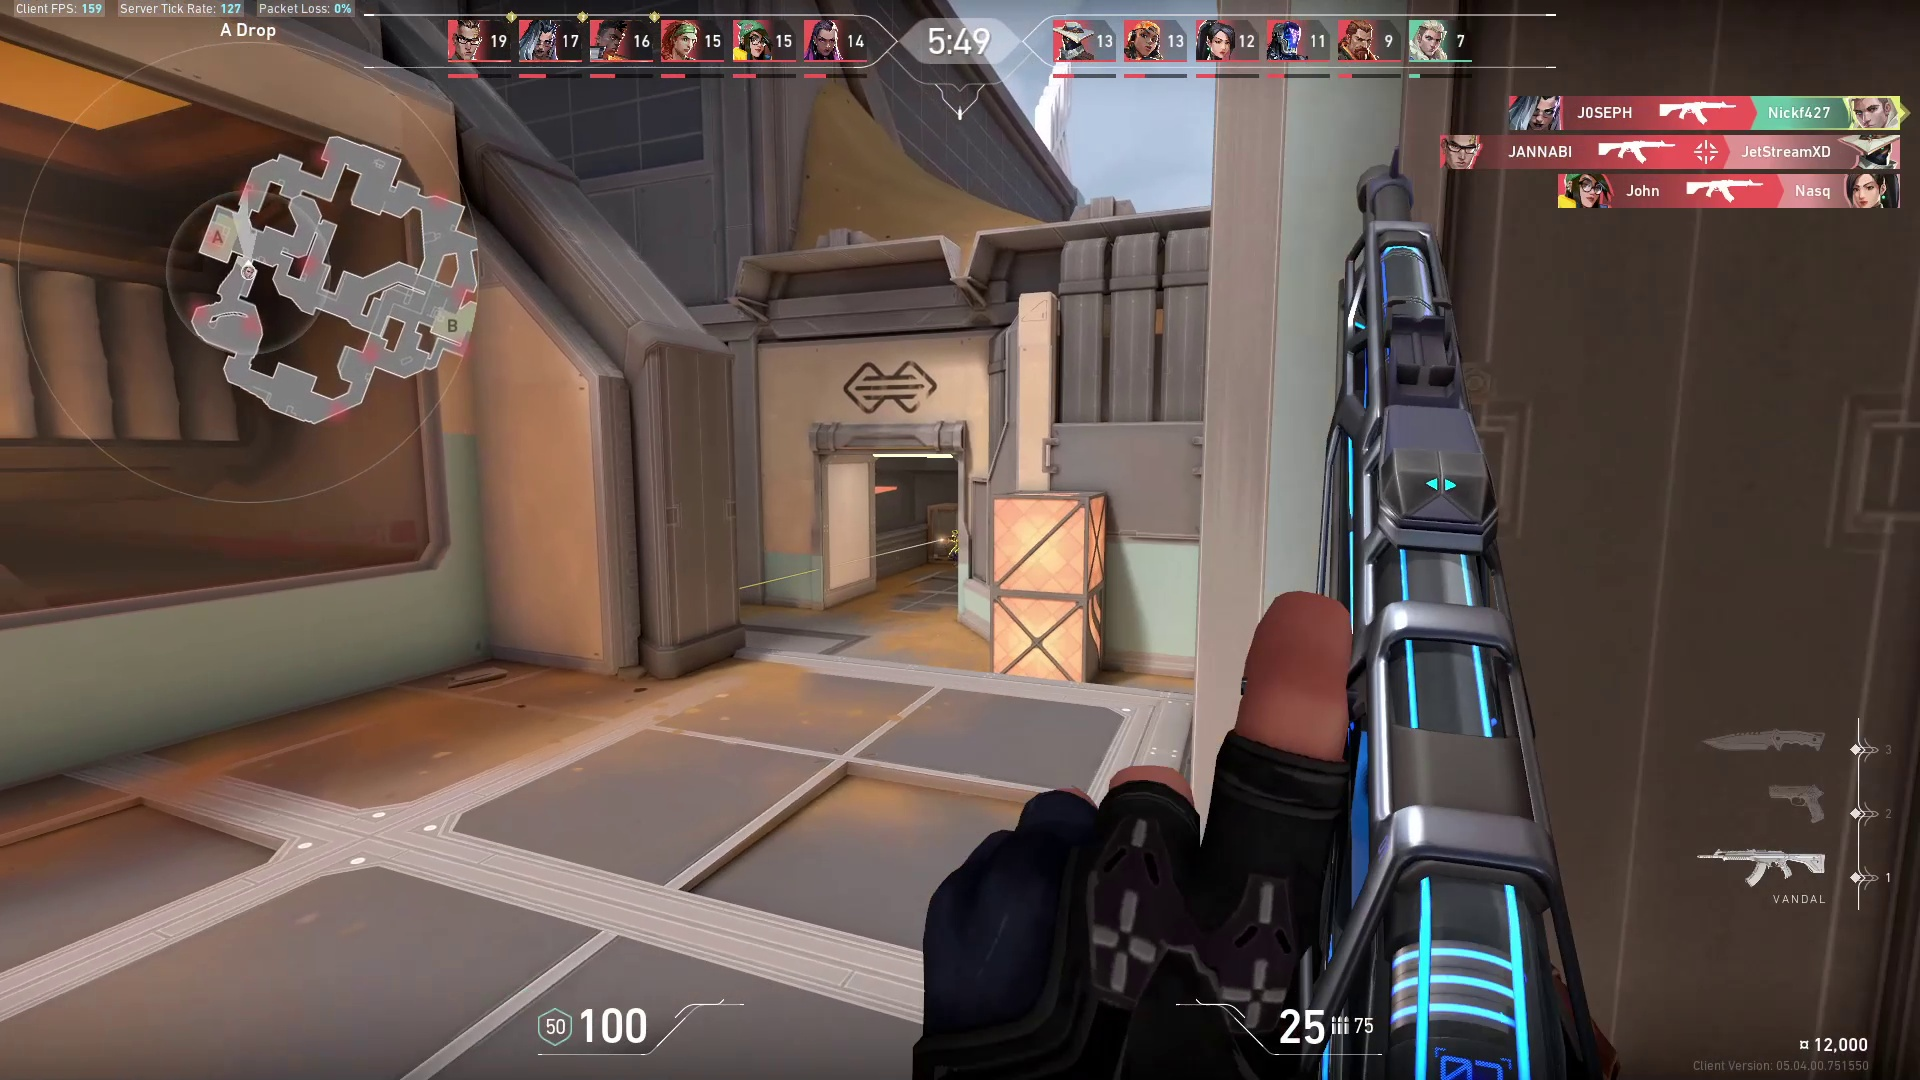enemy_body: (948, 537, 959, 562)
enemy_head: (949, 527, 959, 538)
